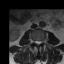CCS_normal: (37, 38, 39, 47)
LFS_normal: (41, 38, 43, 45)
LLS_normal: (39, 38, 41, 46)
RFS_normal: (33, 38, 35, 45)
RLS_normal: (35, 38, 37, 45)
